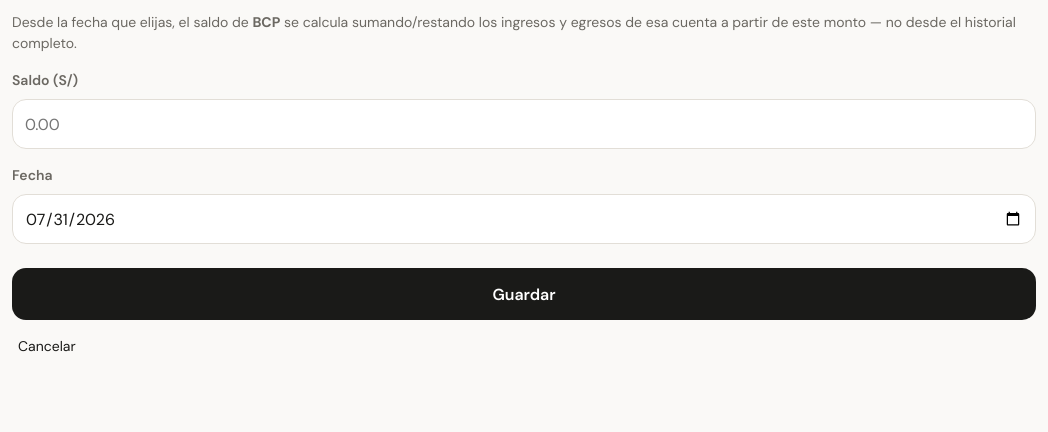
FormularioAjusteSaldo › borde: sin fecha bloquea el envío EN EL FORMULARIO
In the field with id "saldo-ajuste": (524, 124) [12,99,1036,149], type "1000"
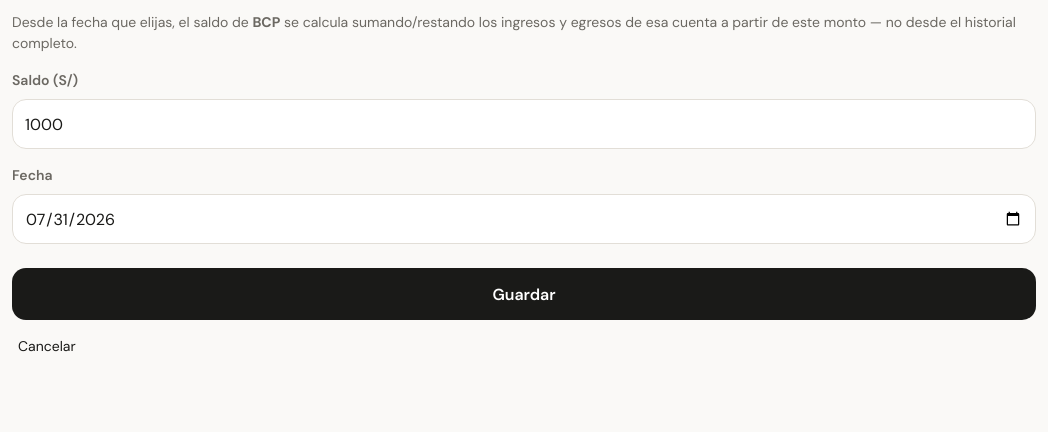
Clear the date field with id "fecha-ajuste": (524, 219) [12,194,1036,244]
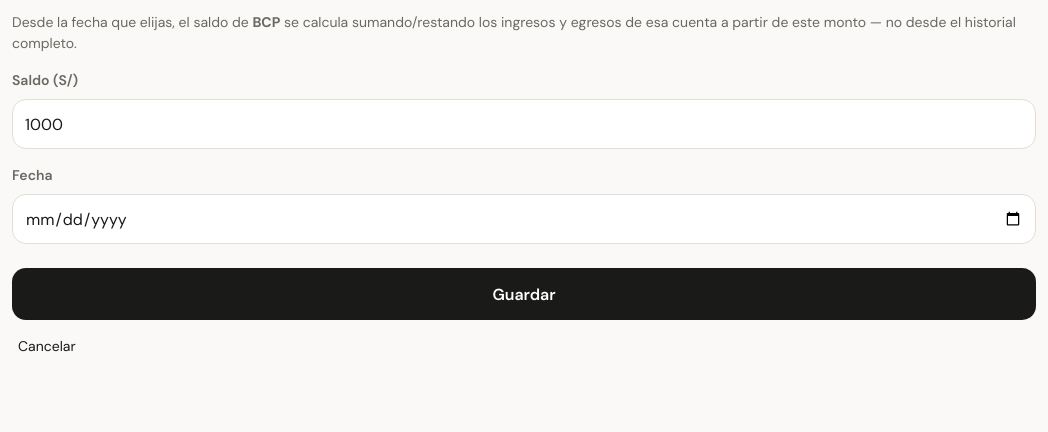
Submit the form
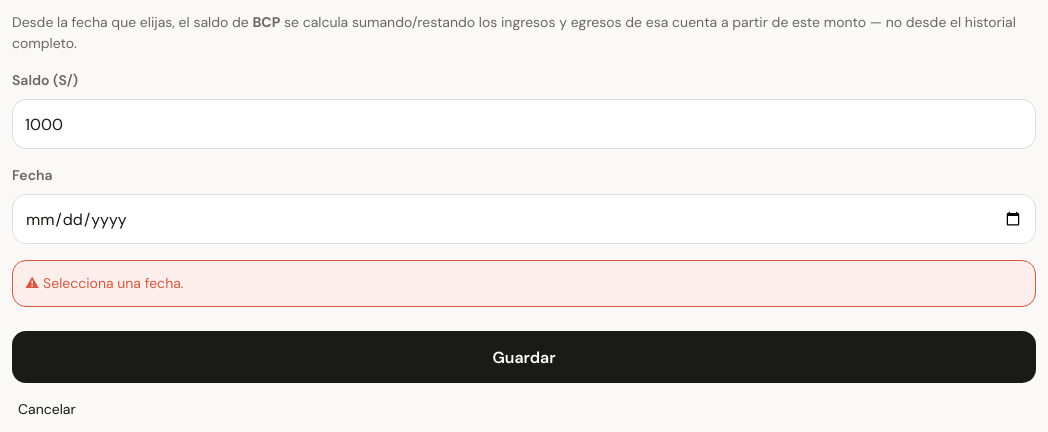
Now the message "Selecciona una fecha." is shown, box [12,260,1036,307]
